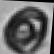correct: (1, 8, 50, 54)
